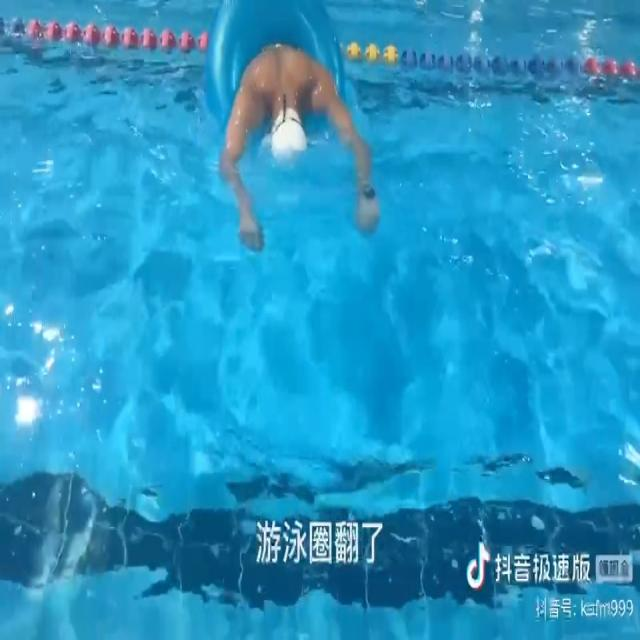Drowning: (217, 34, 384, 251)
